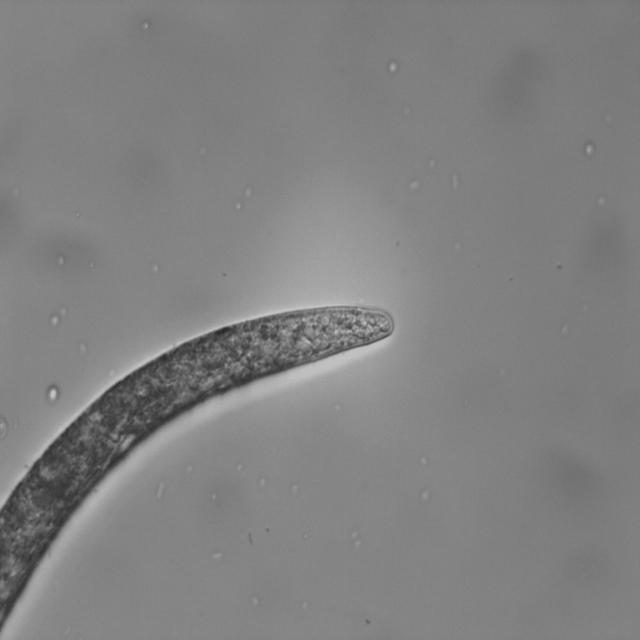Pratylenchus: (0, 293, 405, 640)
